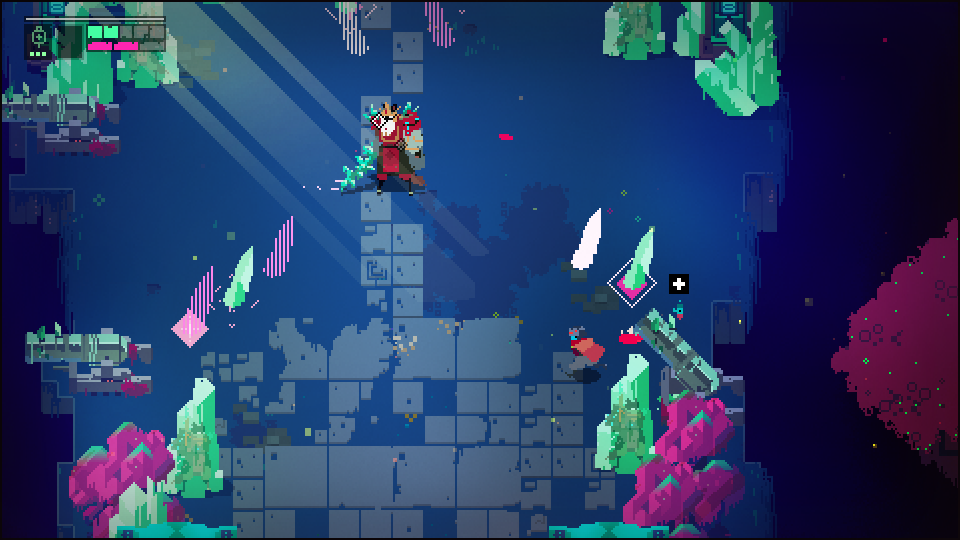hanged_crys: (177, 263, 215, 339), (567, 205, 604, 271), (618, 228, 655, 294), (219, 244, 253, 314), (263, 214, 294, 287), (335, 3, 370, 55), (423, 1, 457, 50)
hanged_man: (332, 97, 431, 192)
player: (566, 323, 608, 376)
